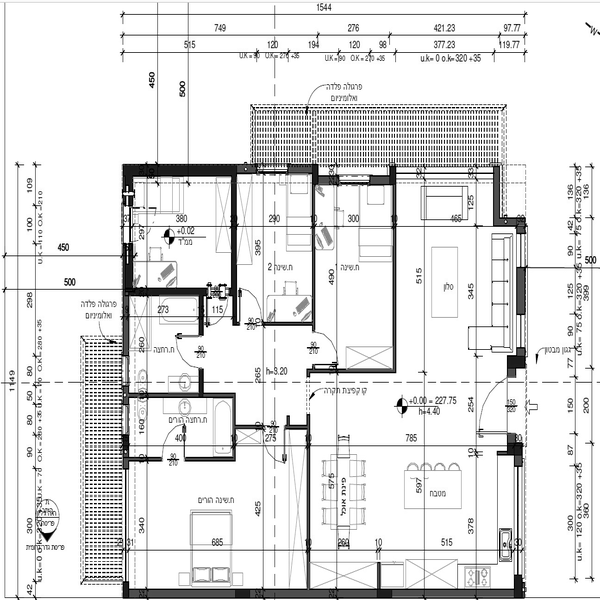door: (457, 378, 516, 435), (168, 328, 207, 370), (312, 324, 346, 372), (257, 421, 289, 467), (157, 420, 190, 464), (236, 287, 269, 329)
room: (304, 367, 529, 600), (388, 149, 535, 367), (117, 451, 313, 600), (114, 158, 244, 299), (238, 157, 309, 322), (122, 282, 210, 402), (119, 384, 240, 464)
wall: (117, 574, 525, 600), (387, 163, 402, 375), (223, 172, 241, 328), (301, 415, 317, 589), (307, 176, 321, 331), (123, 162, 239, 179), (124, 384, 210, 403), (303, 365, 396, 380), (489, 157, 506, 231), (127, 284, 214, 297), (227, 394, 243, 460), (262, 318, 314, 334), (512, 262, 527, 314), (281, 162, 318, 176), (190, 454, 235, 462), (126, 454, 162, 463)
